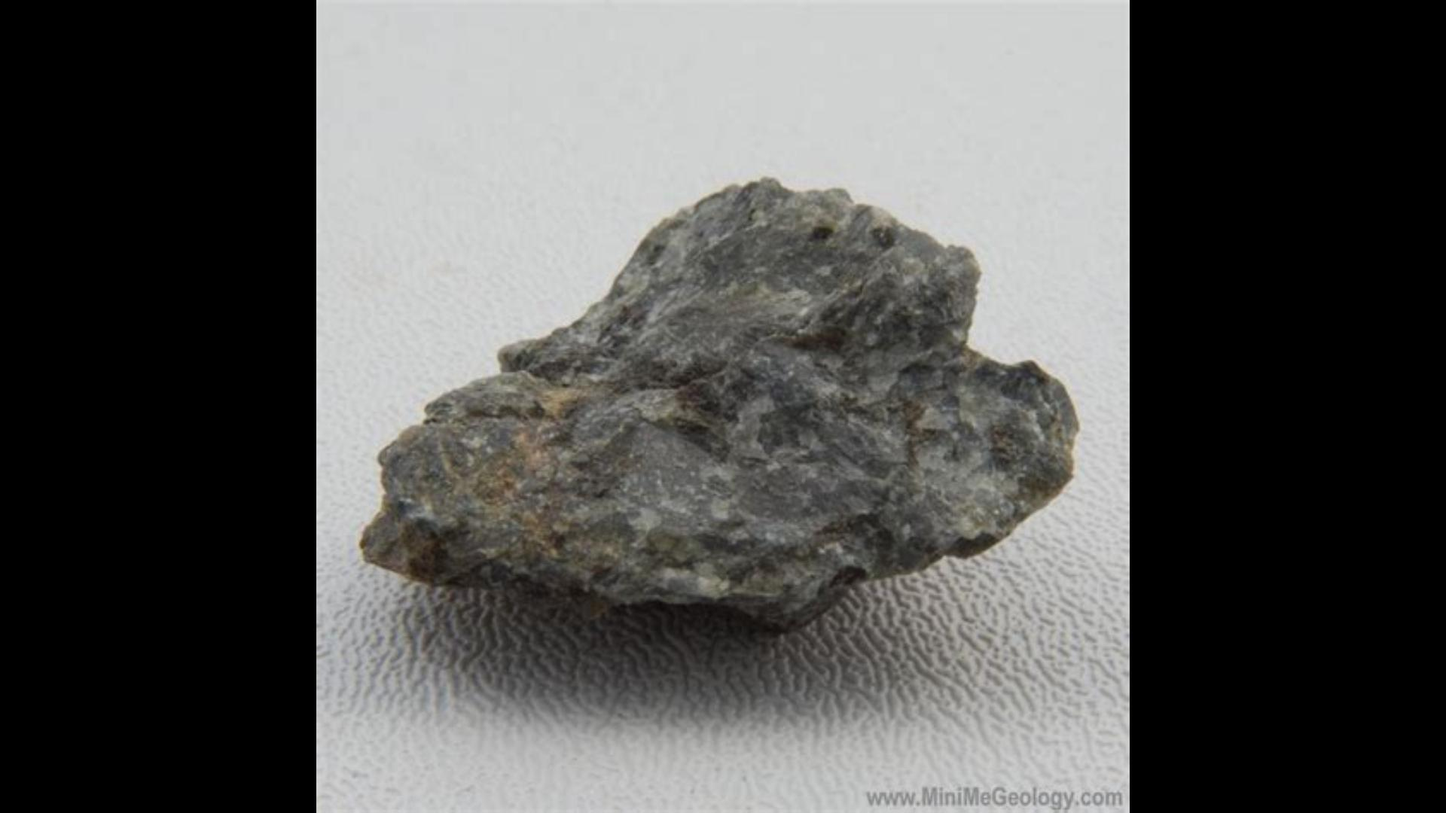rock: (363, 180, 1076, 626)
